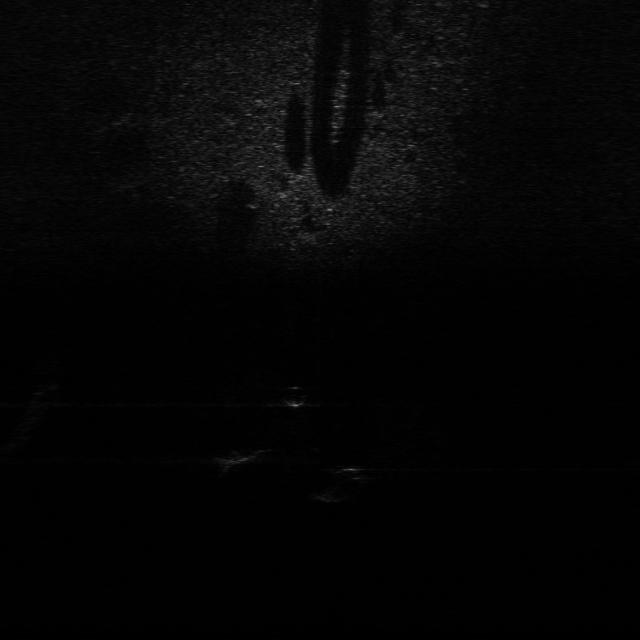ball: (276, 383, 316, 409)
square cage: (206, 446, 273, 475)
tyre: (313, 453, 379, 504)
